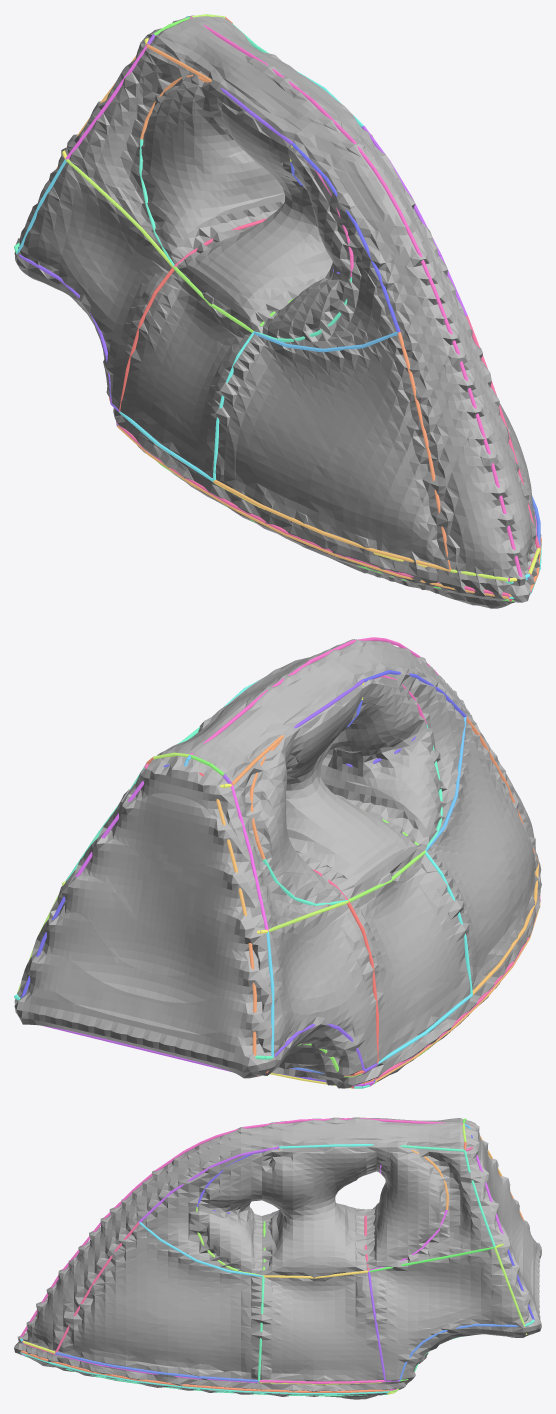
The model's file is onshape_iron.gltf.
The picture shows the model from 3 angles, top to bottom: view 1: azimuth 30°, elevation 25°; view 2: azimuth 150°, elevation 25°; view 3: azimuth 270°, elevation 25°; orthographic projection. The views are drawn at different scales.
Bounding box in the file's own units: 0.3418 × 0.449 × 0.86.
